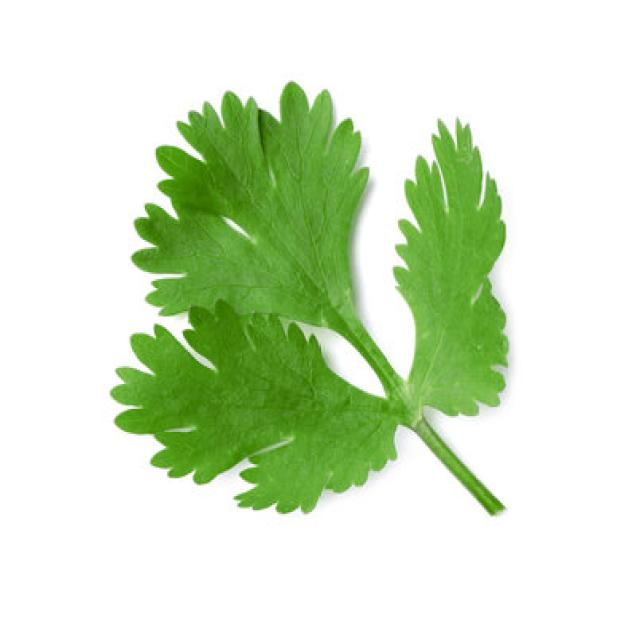Coriander Leaves: (123, 102, 524, 540)
